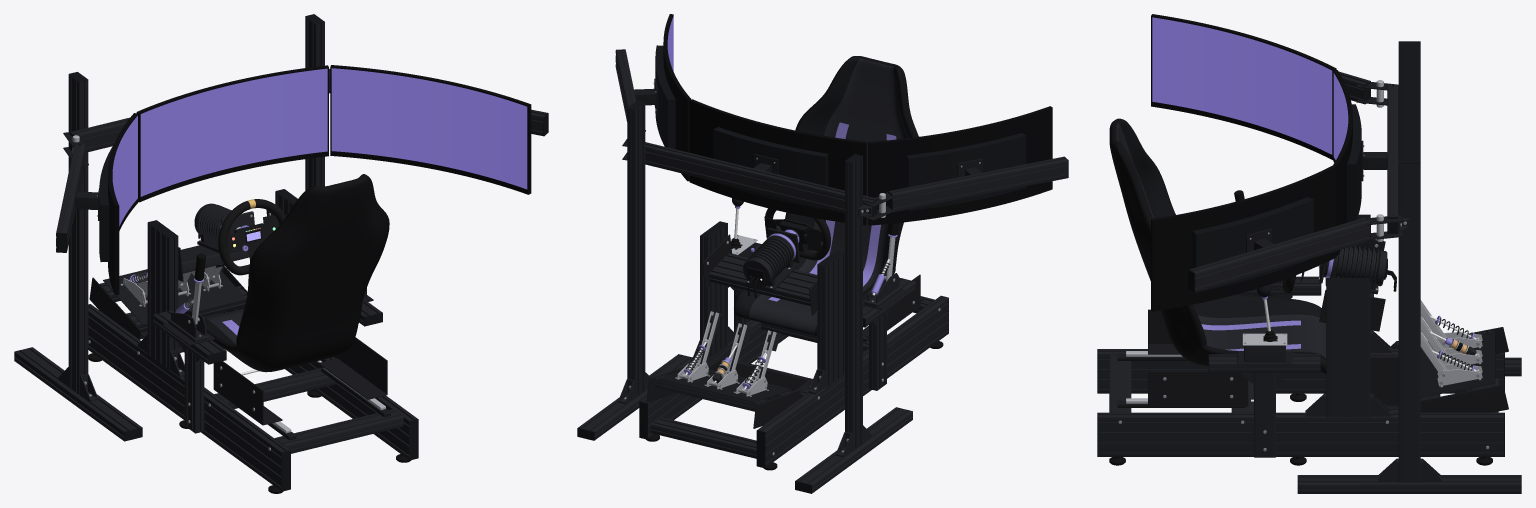
The model's file is proctor_rig.glb.
3 views of the same model, side by side, from view 1: azimuth 30°, elevation 25°; view 2: azimuth 150°, elevation 25°; view 3: azimuth 270°, elevation 25° (orthographic). The views are drawn at different scales.
Parts seen in each view (by area): view 1: slot_frame, slot_monitors, slot_pedals, slot_rim, slot_handbrake, slot_wheelbase; view 2: slot_frame, slot_monitors, slot_pedals, slot_wheelbase, slot_rim, slot_handbrake, slot_shifter; view 3: slot_frame, slot_monitors, slot_pedals, slot_wheelbase, slot_shifter.
Part boxes in pixels (x1,y1,x2,y2): slot_frame: (14, 14, 548, 493); slot_monitors: (75, 65, 531, 294); slot_pedals: (103, 264, 246, 325); slot_rim: (217, 199, 285, 275); slot_handbrake: (168, 253, 209, 342); slot_wheelbase: (194, 203, 254, 252); slot_frame: (577, 49, 1068, 493); slot_monitors: (634, 14, 1052, 225); slot_pedals: (659, 311, 791, 402); slot_wheelbase: (743, 227, 800, 297); slot_rim: (764, 208, 830, 260); slot_handbrake: (864, 223, 902, 307); slot_shifter: (730, 198, 757, 258); slot_frame: (1097, 41, 1521, 493); slot_monitors: (1151, 14, 1387, 311); slot_pedals: (1420, 300, 1495, 397); slot_wheelbase: (1318, 245, 1396, 294); slot_shifter: (1242, 285, 1287, 362).
Bounding box in the file's own units: 2.08 × 1.3 × 1.53.
